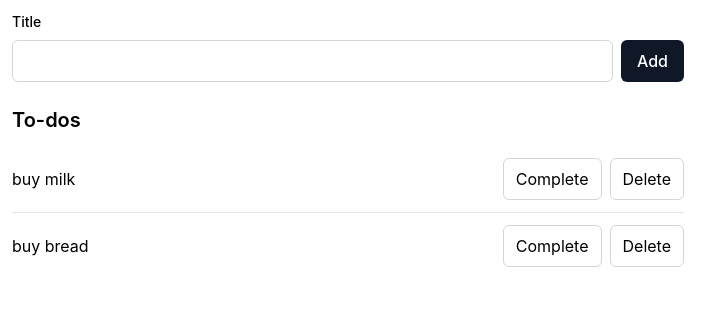
Test case: TodoItem › shows the row error and re-enables controls after Complete network failure
Click the button with aria-label "Complete buy milk": coordinates (552, 179) [503,158,602,200]
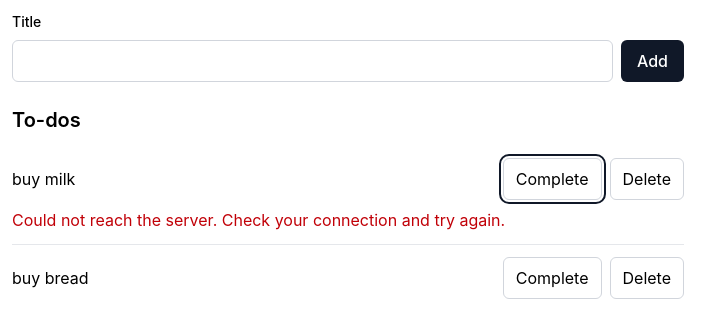
Expected: the message does not show "Private diagnostic detail", [12,210,505,230]
Now the message reads "Could not reach the server. Check your connection and try again.", box [12,210,505,230]
